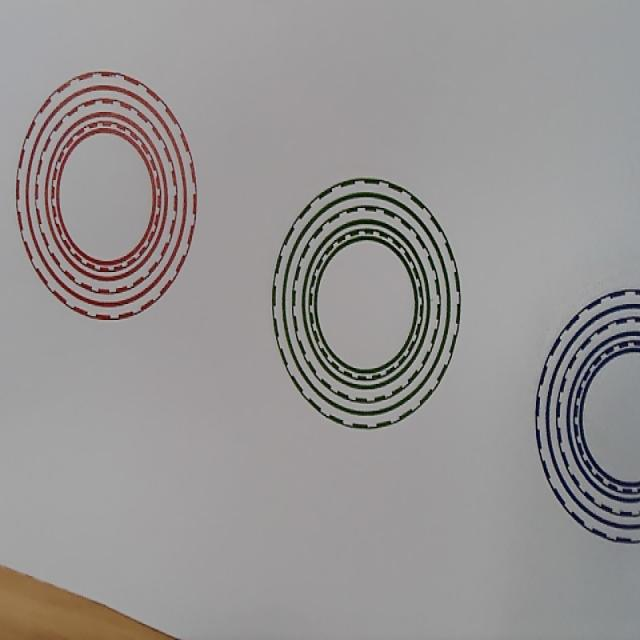g: (270, 176, 462, 432)
red-green-blue: (16, 71, 197, 321)
